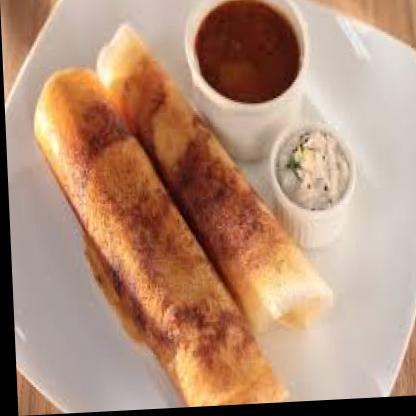dosa: (29, 60, 286, 415), (94, 17, 333, 342)
